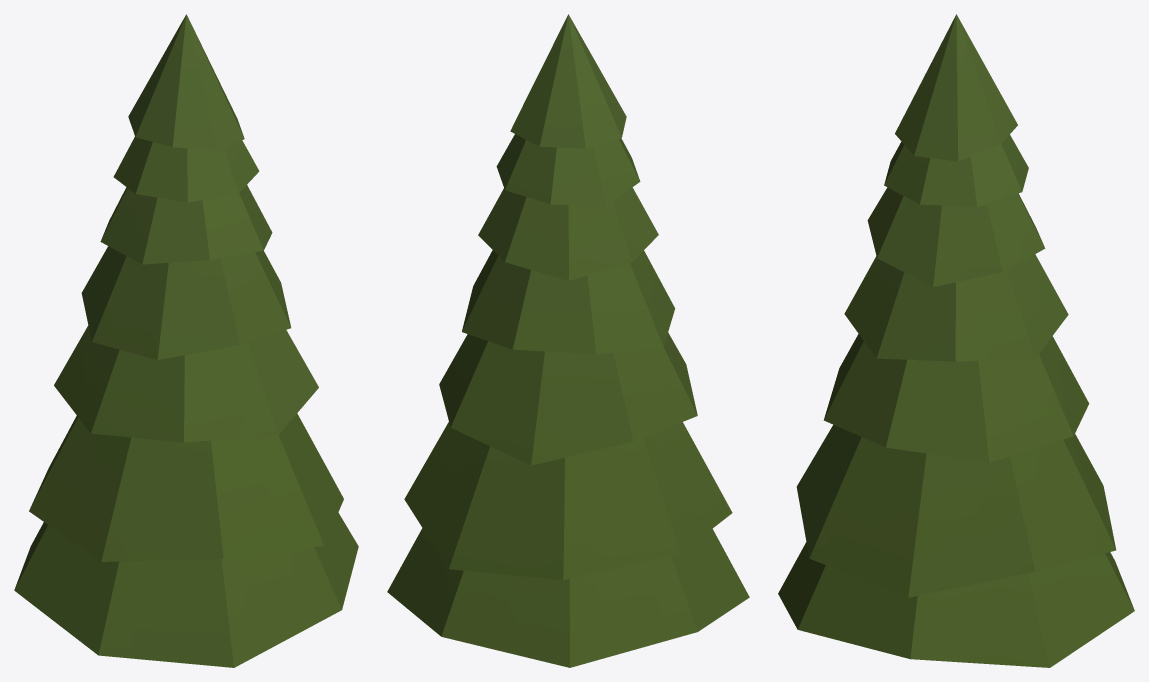
File: tree3.glb
3 views of the same model, side by side, from view 1: azimuth 30°, elevation 25°; view 2: azimuth 150°, elevation 25°; view 3: azimuth 270°, elevation 25° (orthographic). The views are drawn at different scales.
Parts seen in each view (by area): view 1: Big pine; view 2: Big pine; view 3: Big pine.
Part boxes in pixels (x1,y1,x2,y2): Big pine: (14, 14, 358, 667); Big pine: (387, 14, 749, 667); Big pine: (778, 14, 1134, 667).
Bounding box in the file's own units: 2.1 × 4.05 × 2.1.
Materials: 1 (1 with a texture image).
